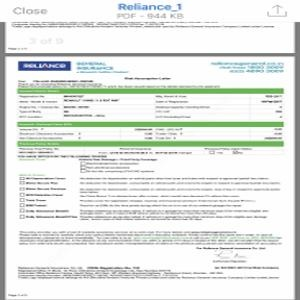image: (15, 60, 75, 73)
table: (17, 87, 284, 124), (15, 121, 285, 146)
text: (16, 147, 283, 224), (16, 264, 282, 282), (18, 231, 283, 247), (206, 59, 284, 74), (77, 58, 138, 76)
